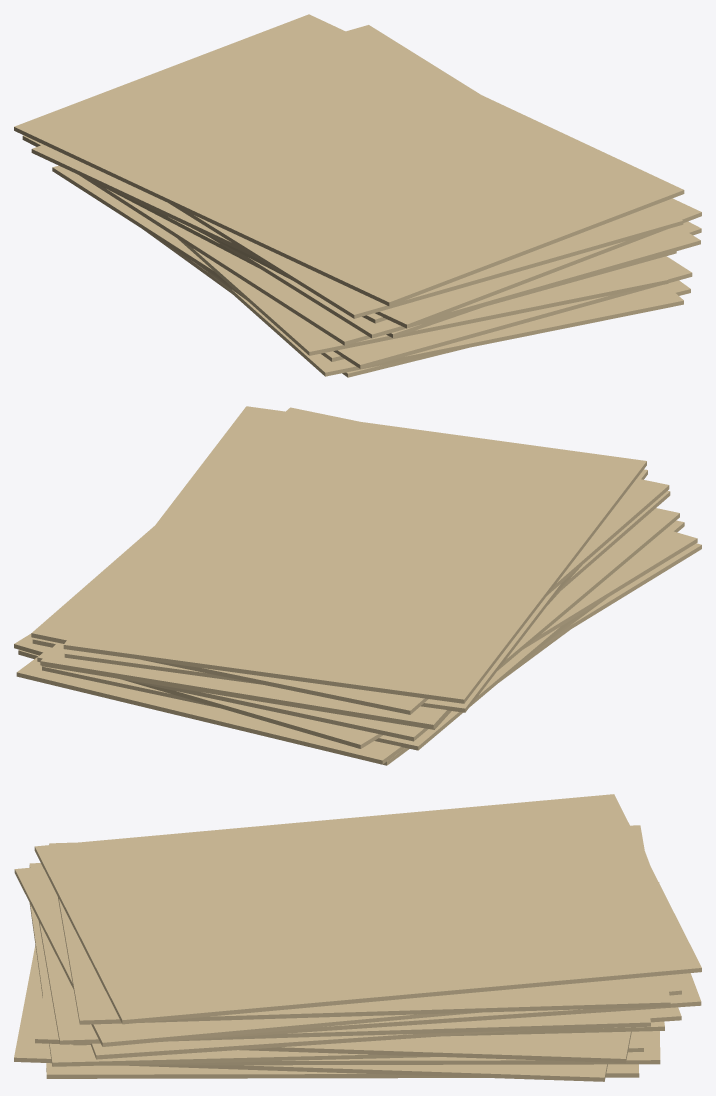
File: stack pf paper.fbx
3 renders of one model, top to bottom at view 1: azimuth 30°, elevation 25°; view 2: azimuth 150°, elevation 25°; view 3: azimuth 270°, elevation 25°, orthographic. The views are drawn at different scales.
Parts seen in each view (by area): view 1: Plane.014; view 2: Plane.014; view 3: Plane.014.
Boxes of the visible parts, box(x1,y1,x2,y2) form: Plane.014: box(14, 14, 701, 377); Plane.014: box(14, 406, 701, 765); Plane.014: box(14, 794, 701, 1081).
Size of the model in its own units: 22.7 by 3.39 by 28.65.
